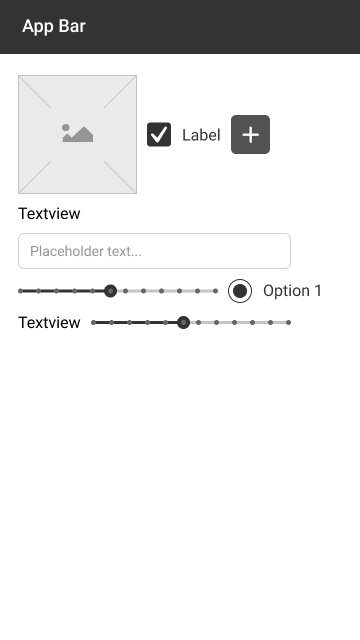buttonIcon: (229, 113, 272, 157)
checkBox: (145, 121, 220, 148)
editText: (15, 231, 295, 271)
imageView: (17, 73, 139, 197)
radioButton: (226, 276, 326, 304)
slider: (15, 281, 221, 299), (88, 315, 300, 330)
textView: (18, 313, 84, 332), (18, 204, 82, 223)
toolbar: (1, 1, 360, 55)
